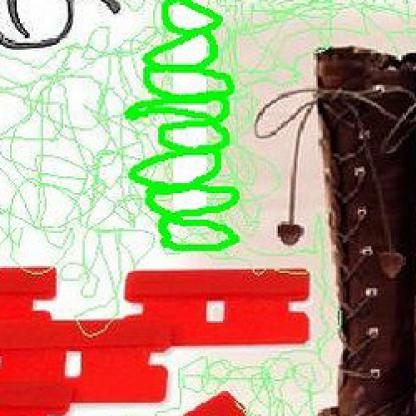gun: (0, 0, 415, 160)
